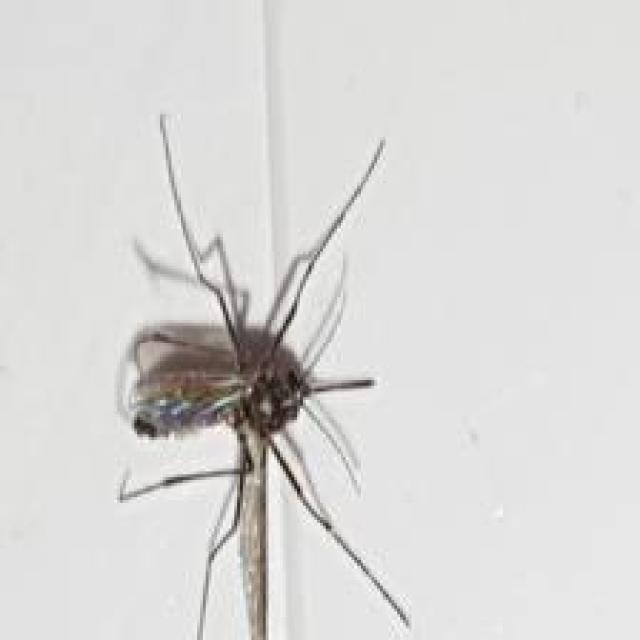Aedes albopictus: (116, 111, 413, 640)
